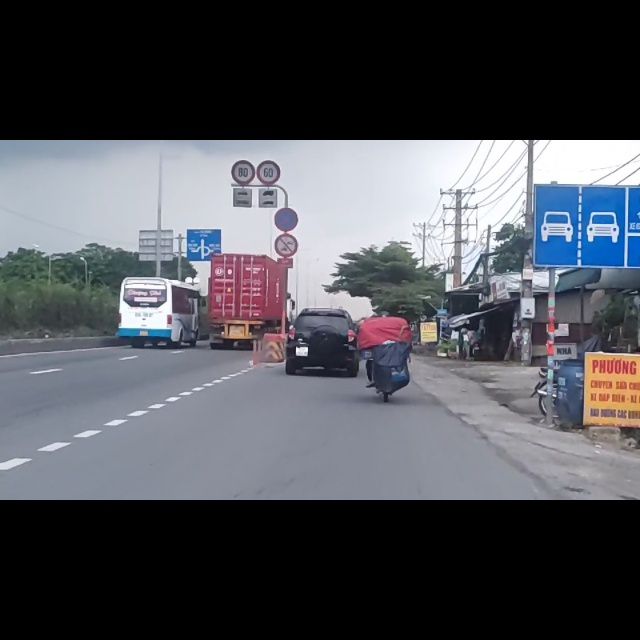bien_cam: (532, 78, 639, 226), (231, 34, 255, 81), (273, 119, 299, 162), (257, 36, 281, 79), (275, 167, 299, 206)
